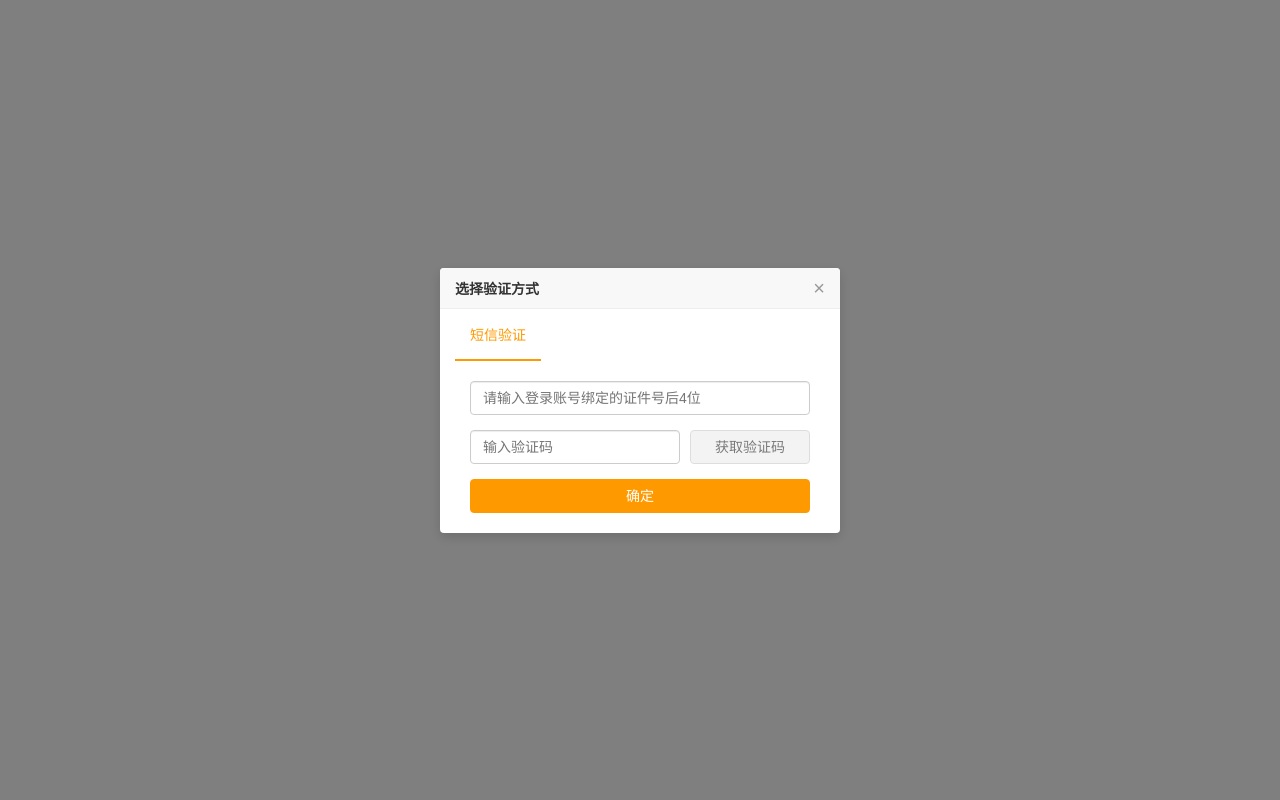
it: SmsVerificationModal - 登录短信验证 › 按钮状态 › 应该在证件号=4位时显示状态2（白色背景，黑色文字，可点击）
This screenshot has width=1280, height=800.
Type "1234" into the field with placeholder "请输入登录账号绑定的证件号后4位".
click(640, 398); type("1234")  # box [470,380,810,414]
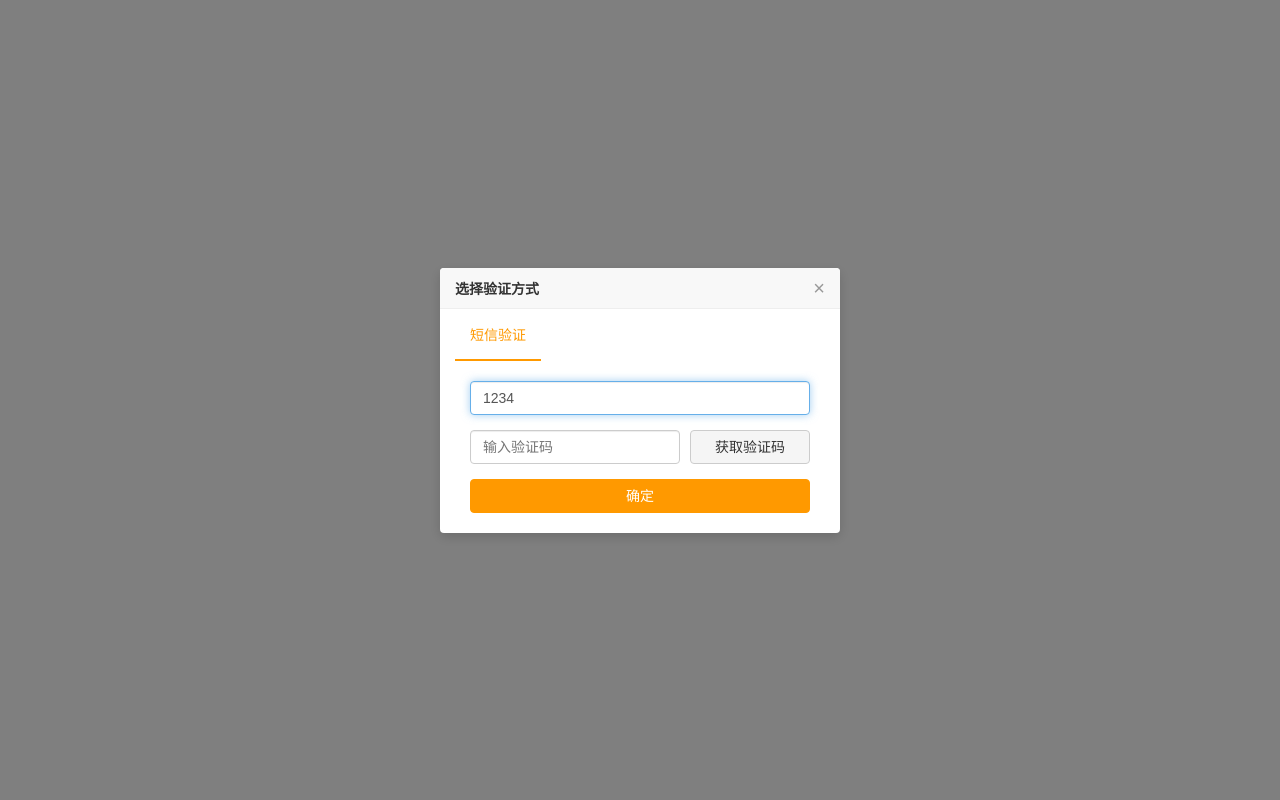
Expected: the button "获取验证码" is enabled, [690,430,810,464]
